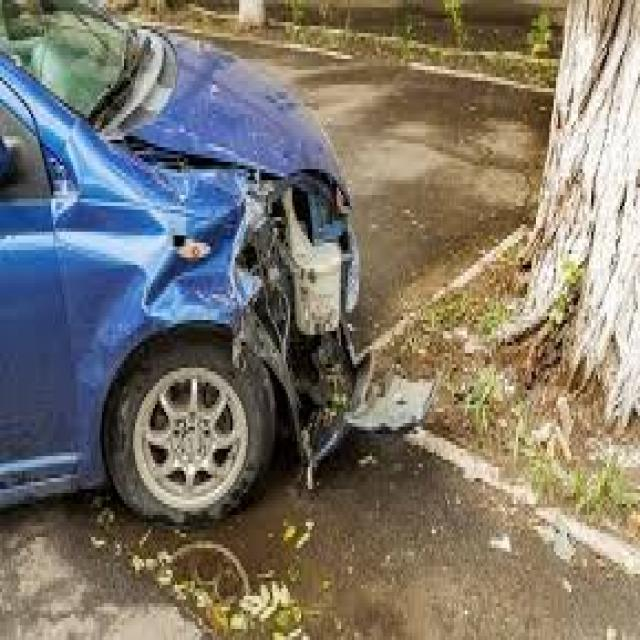accident: (2, 0, 405, 535)
